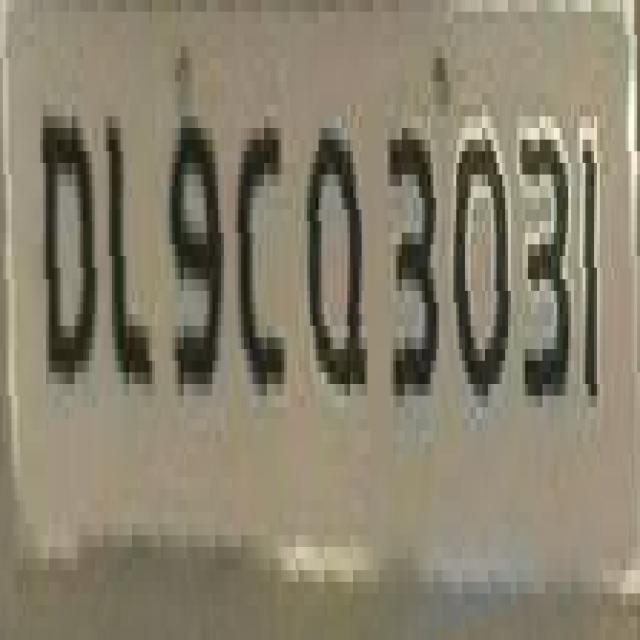license_plate: (0, 0, 617, 605)
